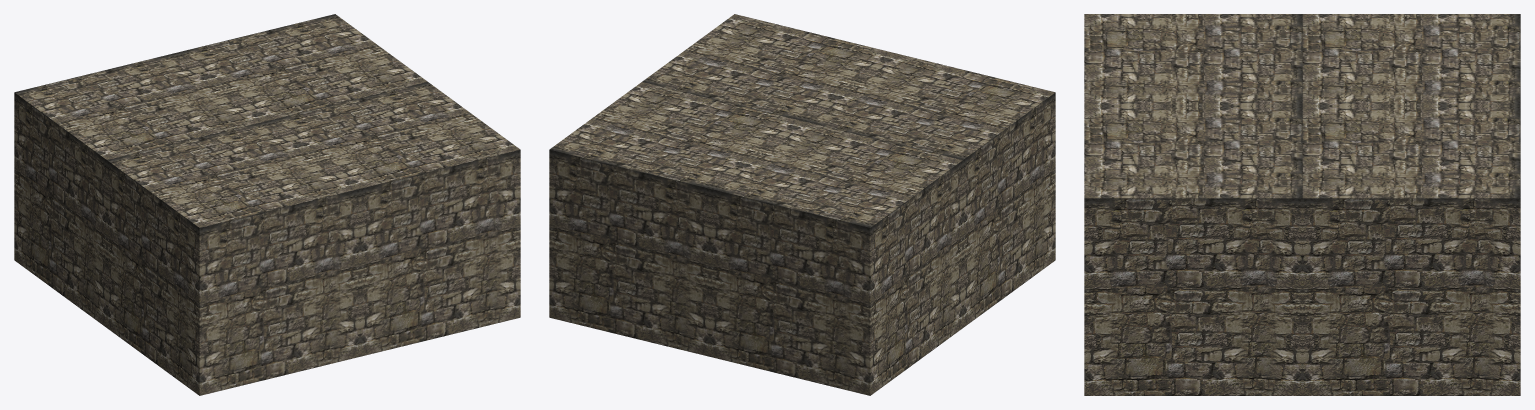
Rendered from WallBase03.FBX.
The picture shows the model from 3 angles, left to right: view 1: azimuth 30°, elevation 25°; view 2: azimuth 150°, elevation 25°; view 3: azimuth 270°, elevation 25°; orthographic projection. The views are drawn at different scales.
Visible parts, largest first — view 1: WallBase03; view 2: WallBase03; view 3: WallBase03.
Part boxes in pixels (left/top/right/bottom): WallBase03: left=14, top=14, right=520, bottom=395; WallBase03: left=549, top=14, right=1055, bottom=395; WallBase03: left=1084, top=14, right=1520, bottom=395.
Size of the model in its own units: 700 by 350 by 700.
